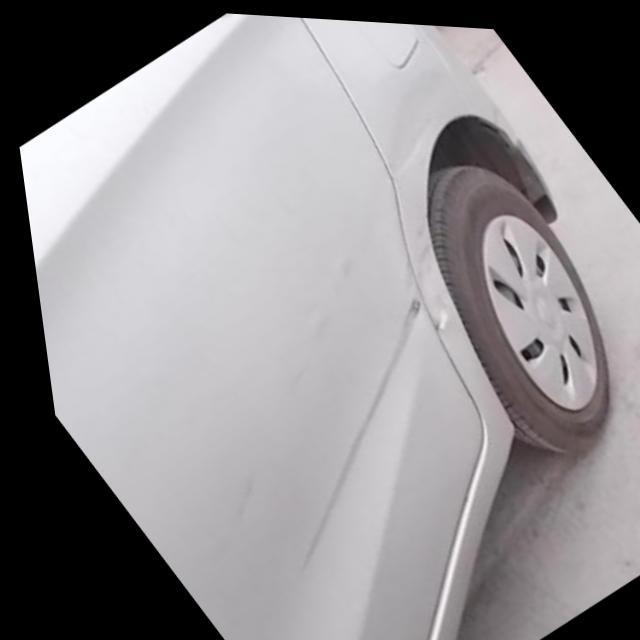scratch: (278, 222, 428, 571), (265, 216, 376, 364), (198, 468, 251, 548), (420, 294, 449, 335)
